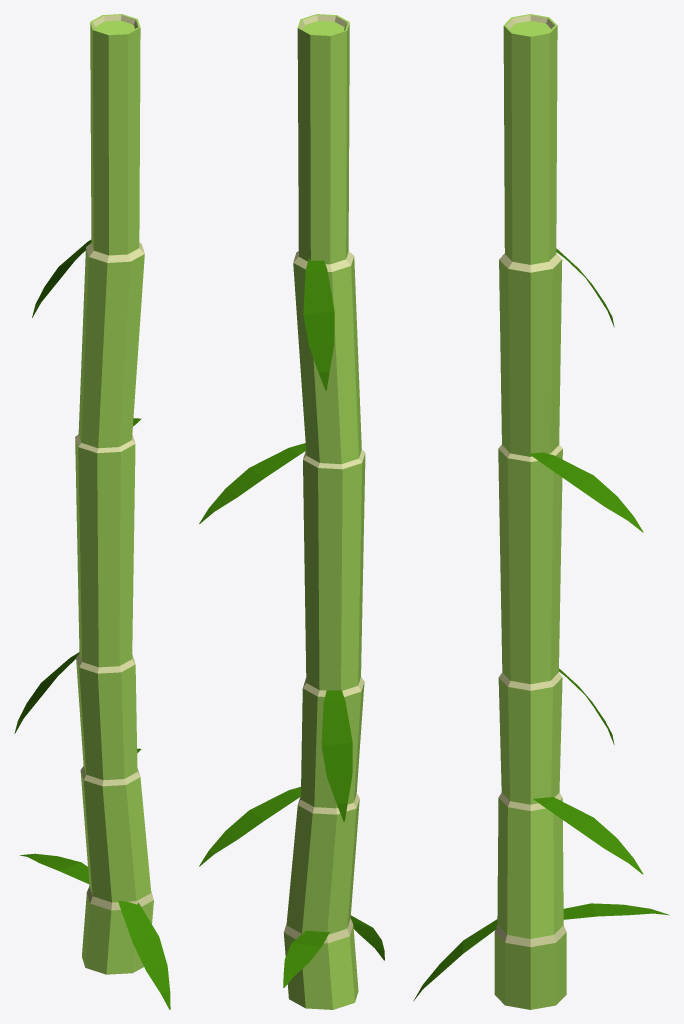
File: FIL_ZenGargen_Bamboo_02.fbx
The picture shows the model from 3 angles, left to right: view 1: azimuth 30°, elevation 25°; view 2: azimuth 150°, elevation 25°; view 3: azimuth 270°, elevation 25°; orthographic projection. The views are drawn at different scales.
Parts seen in each view (by area): view 1: polySurface11; view 2: polySurface11; view 3: polySurface11.
Boxes of the visible parts, x1,y1,x2,y2 form: polySurface11: (14,14,170,1009); polySurface11: (199,14,384,1009); polySurface11: (413,14,669,1009).
Bounding box in the file's own units: 3.47 × 24.72 × 5.88.
